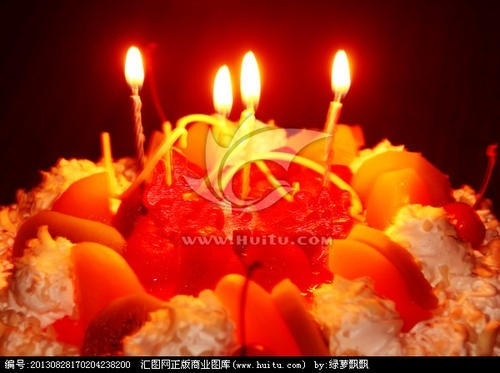fire: (215, 50, 249, 115), (328, 45, 352, 111), (239, 48, 262, 113), (124, 41, 145, 101), (211, 60, 234, 111)
